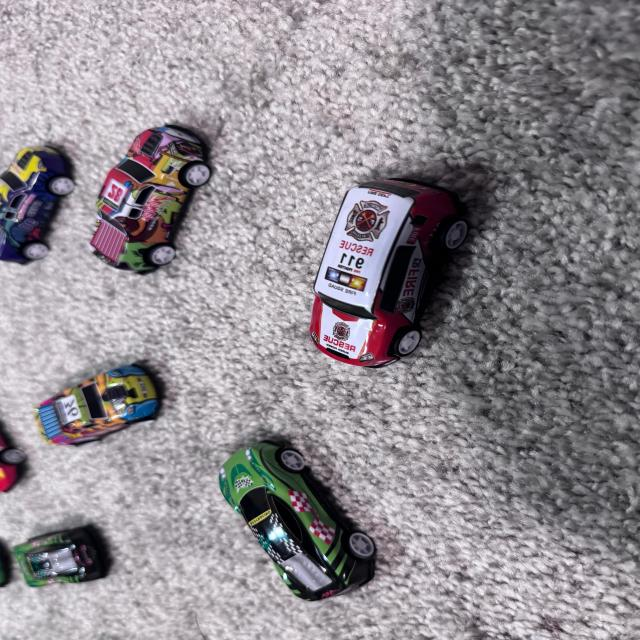car: (269, 143, 461, 401), (71, 132, 248, 298), (219, 434, 375, 602), (18, 345, 176, 470), (0, 120, 88, 281), (10, 511, 119, 599)
